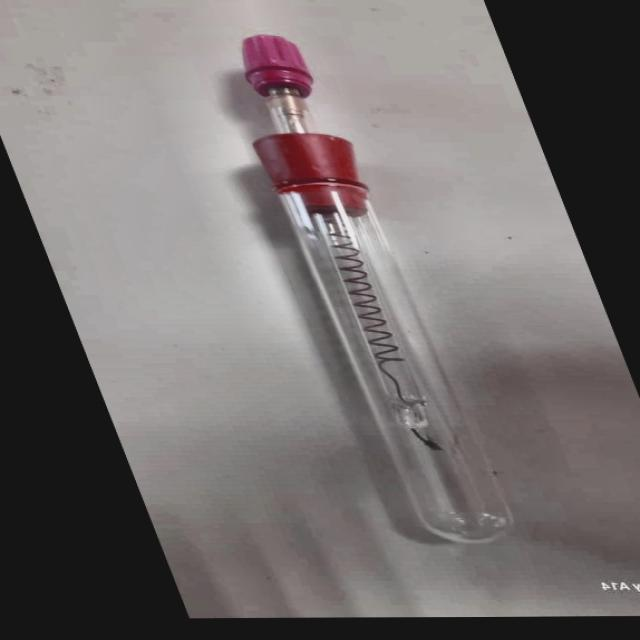Electrode: (193, 31, 553, 558)
